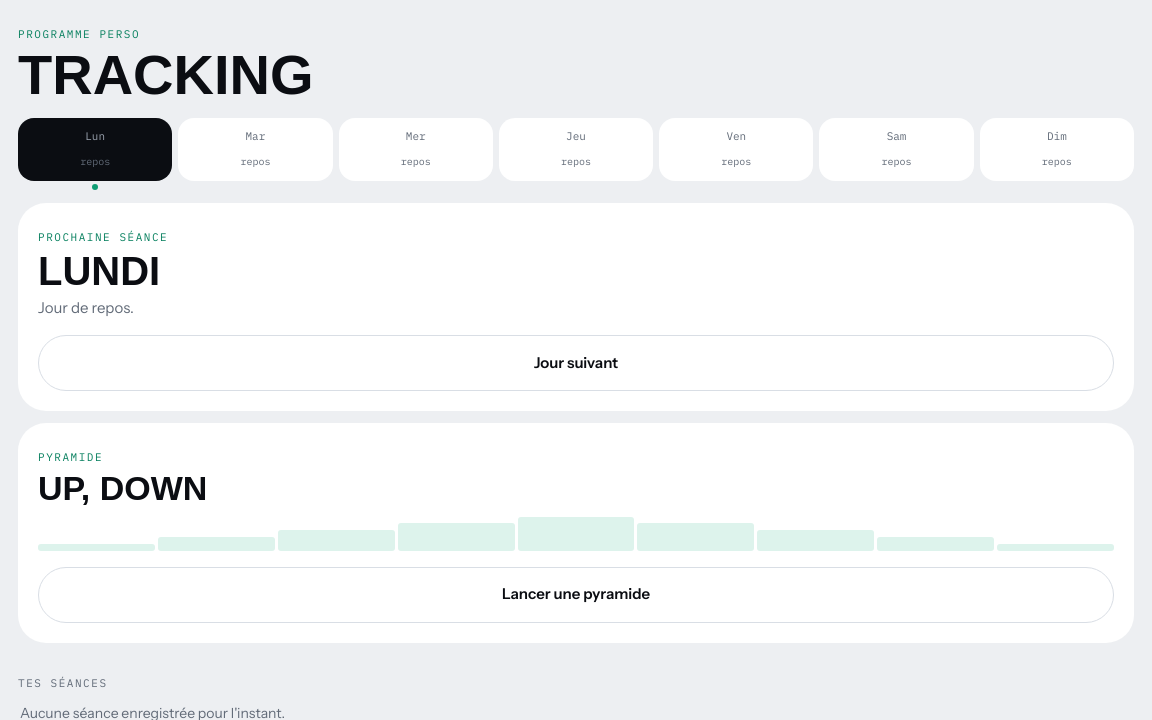
Test: TrackingScreen › offers to launch a pyramid
Click the button "Lancer une pyramide". click: (576, 595)
box: [38,567,1114,623]
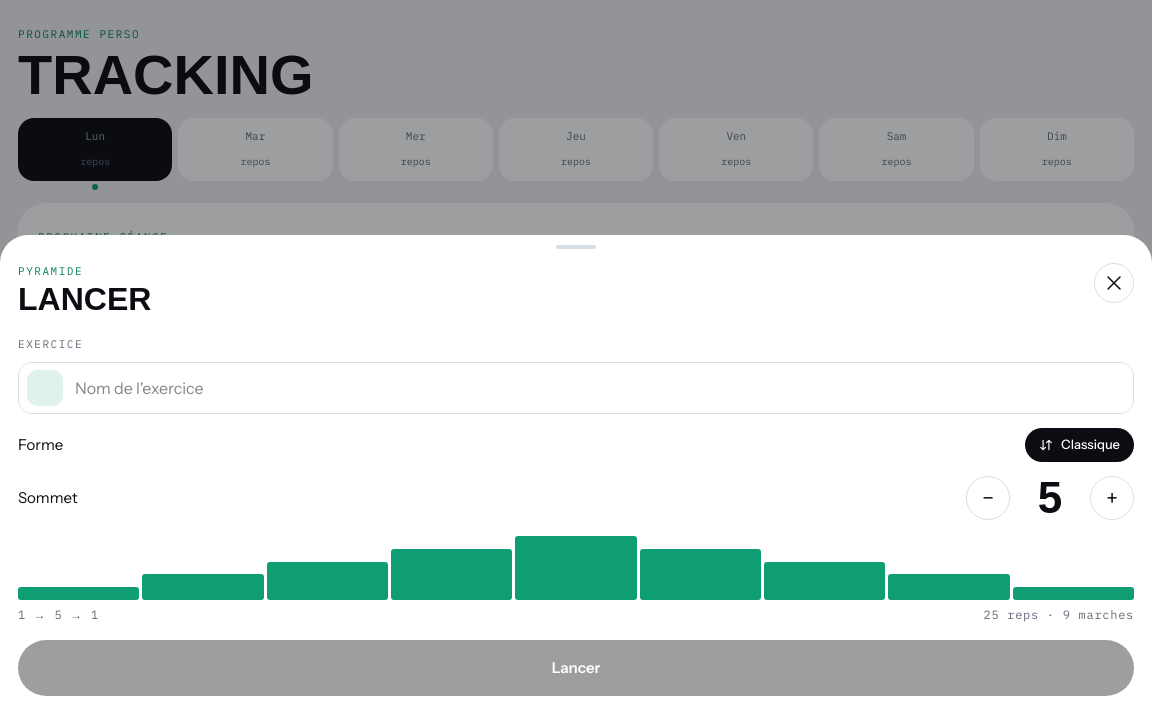
Now the dialog named "Pyramide · Lancer" is shown
